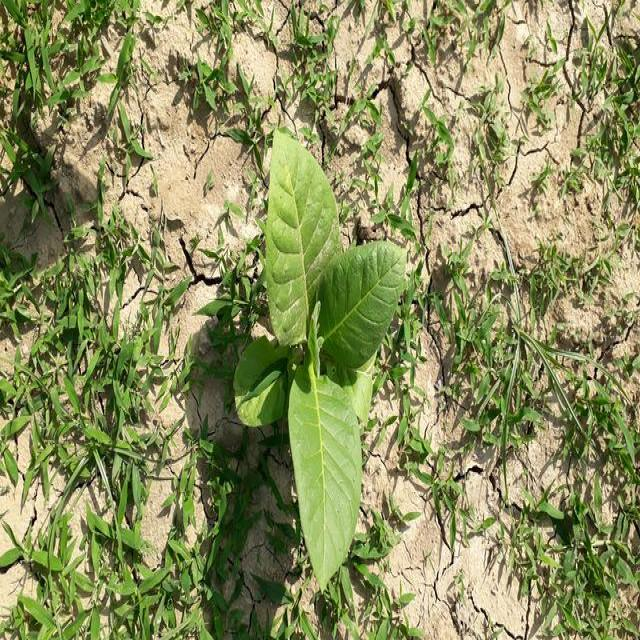crop: (240, 135, 404, 575)
